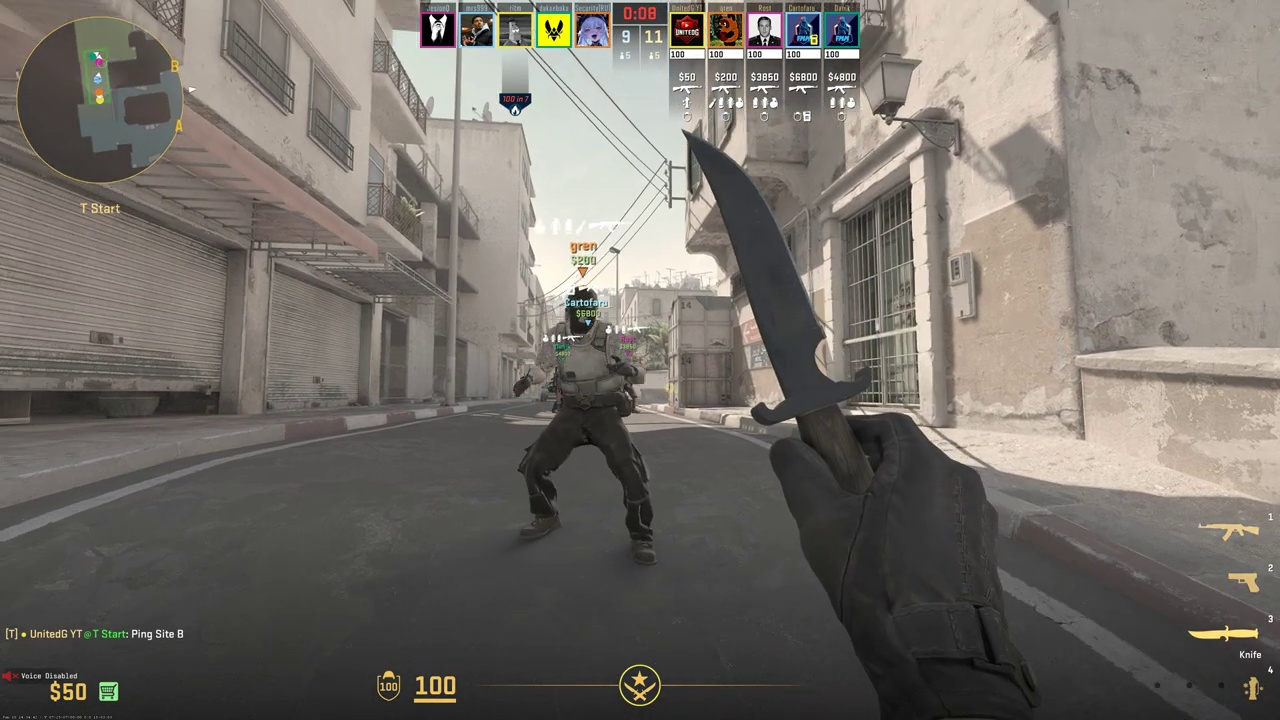Terrorist: (525, 286, 648, 564)
